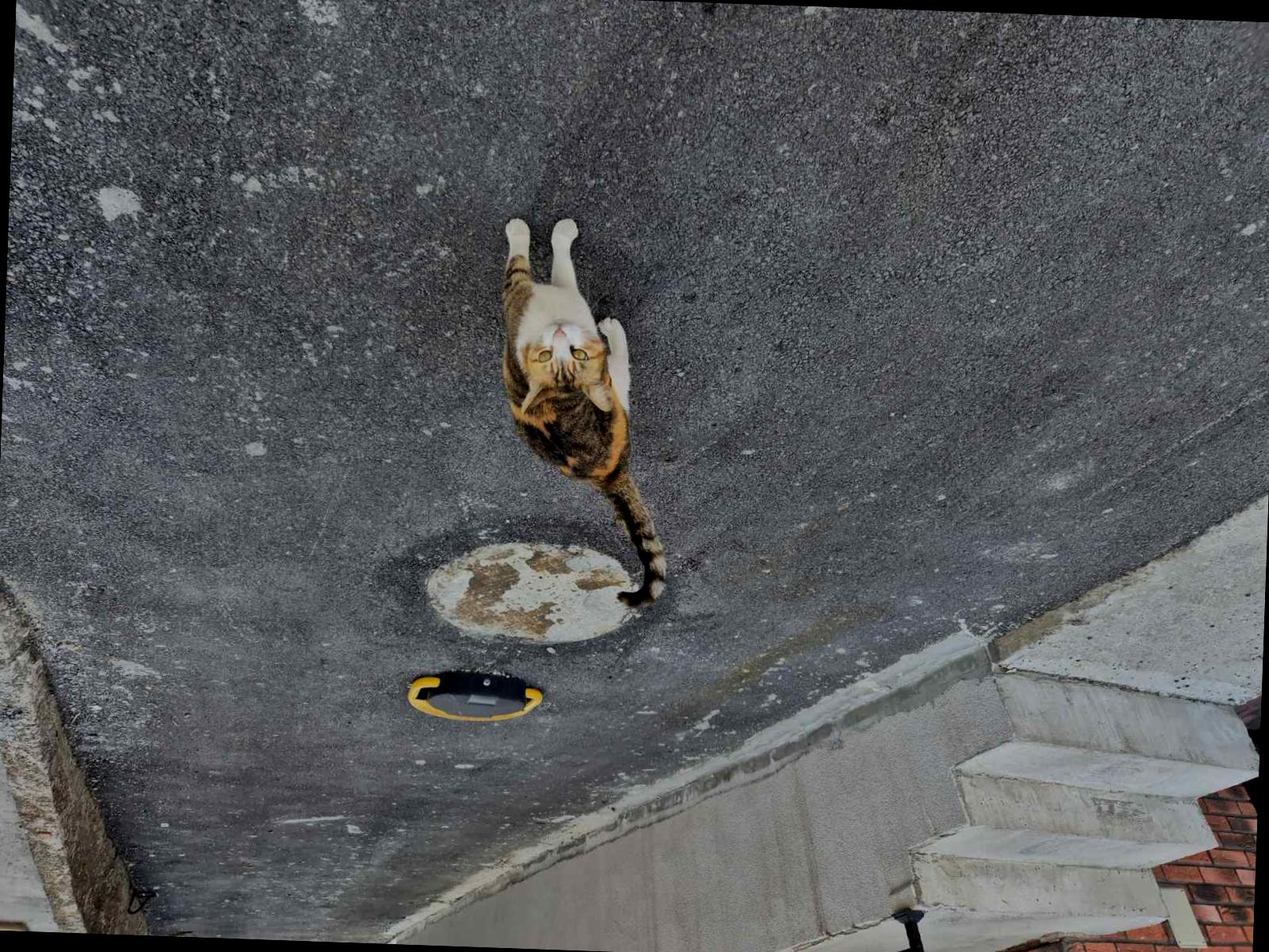macka: (489, 215, 677, 611)
